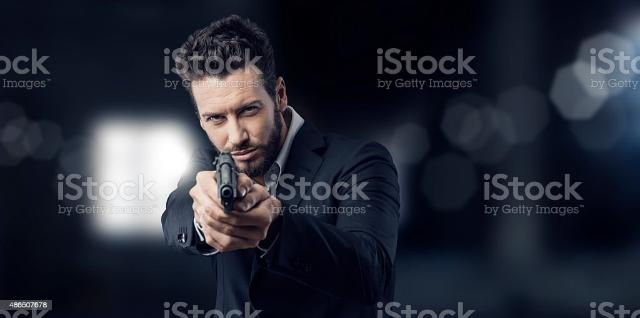handgun: (212, 148, 244, 218)
